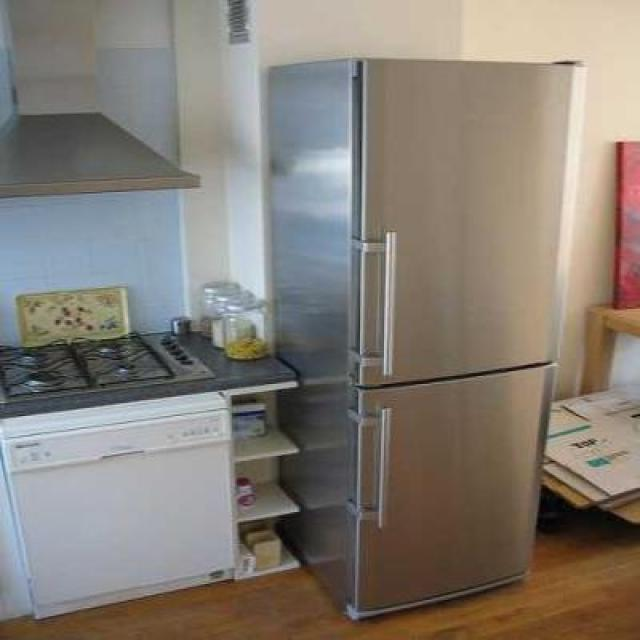refrigerator: (349, 56, 568, 605)
